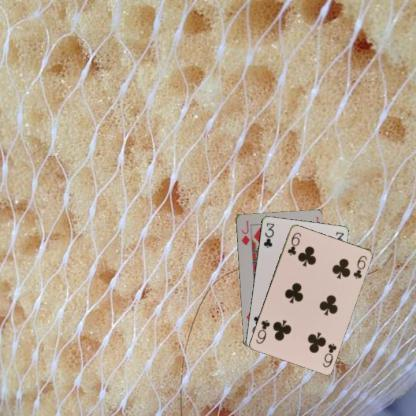3c: (260, 220, 276, 249)
6c: (320, 340, 338, 369), (285, 230, 302, 257)
Jd: (238, 218, 250, 246)
